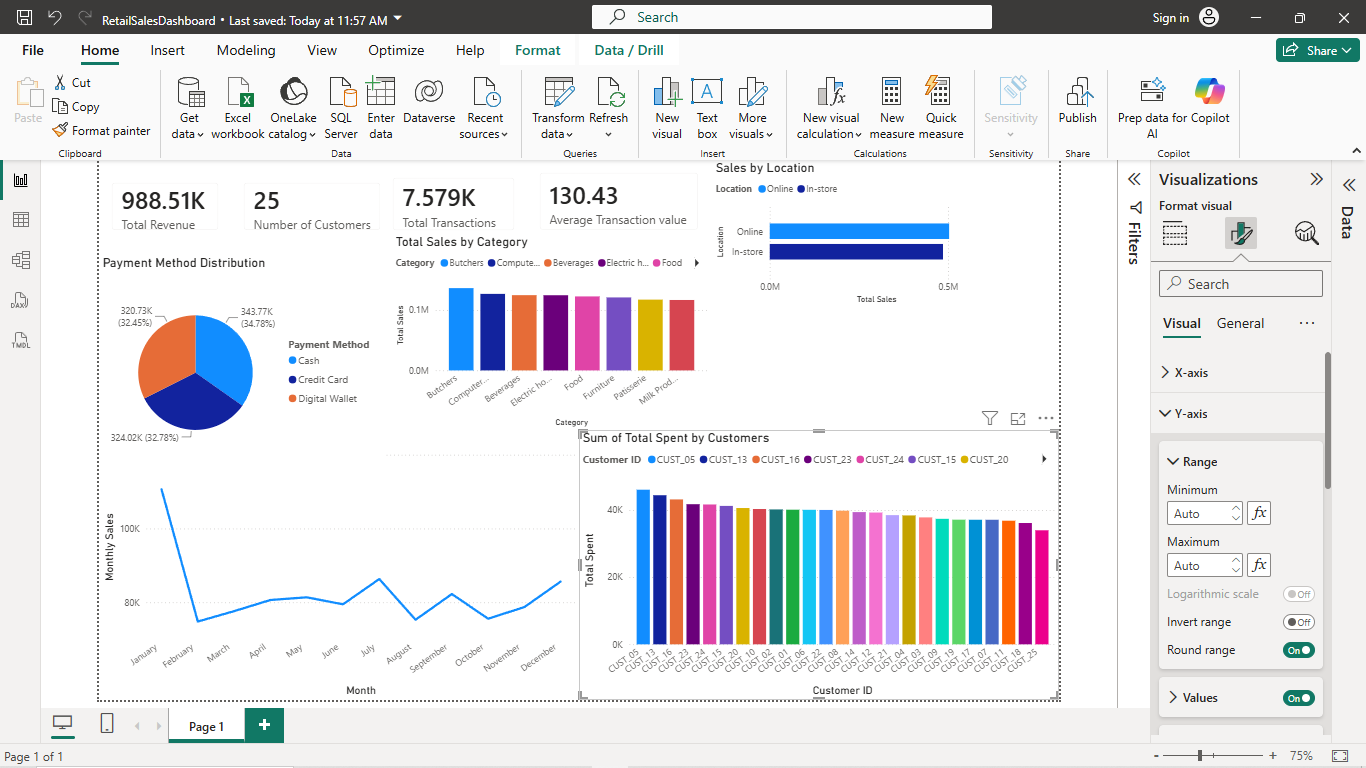

What the dashboard file says about the page in this screenshot:
{"tool":"powerbi","page":{"name":"Page 1","canvas":[1280,720],"ordinal":0},"visuals":[{"type":"cardVisual","fields":{"Data":["Sum(retail_sales.Total Spent)"]},"box":[0,13.4,176.4,97.4],"z":0},{"type":"cardVisual","fields":{"Data":["Count(retail_sales.Customer ID)"]},"box":[176.4,13.4,216.7,97.4],"z":3},{"type":"cardVisual","fields":{"Data":["CountNonNull(retail_sales.Customer ID)"]},"box":[374.6,6.7,196.5,104.1],"z":4},{"type":"cardVisual","fields":{"Data":["Avg(retail_sales.Total Spent)"]},"box":[571.1,0,245.2,110.9],"z":5},{"type":"lineChart","title":"Monthly Sales Trend","fields":{"Y":["Sum(retail_sales.Total Spent)"],"Category":["retail_sales.Transaction Date.Variation.Date Hierarchy.Month"]},"box":[0,360.1,640,360.1],"z":6},{"type":"columnChart","title":"Total Sales by Category","fields":{"Category":["retail_sales.Category"],"Y":["Sum(retail_sales.Total Spent)"],"Series":["retail_sales.Category"]},"box":[391.2,98.2,425.6,261.9],"z":7},{"type":"barChart","title":"Sales by Location","fields":{"Y":["Sum(retail_sales.Total Spent)"],"Category":["retail_sales.Location"],"Series":["retail_sales.Location"]},"box":[816.8,0,381.4,196.4],"z":8},{"type":"pieChart","title":"Payment Method Distribution","fields":{"Category":["retail_sales.Payment Method"],"Y":["Sum(retail_sales.Total Spent)"]},"box":[0,126,381.4,294.6],"z":9},{"type":"columnChart","title":"Sum of Total Spent by Customers","fields":{"Category":["retail_sales.Customer ID"],"Y":["Sum(retail_sales.Total Spent)"],"Series":["retail_sales.Customer ID"]},"box":[640,360.1,640,360.1],"z":10}]}

Visuals, with their boxes on the page's 1280x720 design canvas (x1, y1, x2, y2). These are canvas units, not pixel positions in the 1366x768 screenshot, which may show the page scaled, cropped or inside an application window:
cardVisual - Sum(retail_sales.Total Spent): [0,13,176,111]
cardVisual - Count(retail_sales.Customer ID): [176,13,393,111]
cardVisual - CountNonNull(retail_sales.Customer ID): [375,7,571,111]
cardVisual - Avg(retail_sales.Total Spent): [571,0,816,111]
"Monthly Sales Trend" lineChart: [0,360,640,720]
"Total Sales by Category" columnChart: [391,98,817,360]
"Sales by Location" barChart: [817,0,1198,196]
"Payment Method Distribution" pieChart: [0,126,381,421]
"Sum of Total Spent by Customers" columnChart: [640,360,1280,720]
